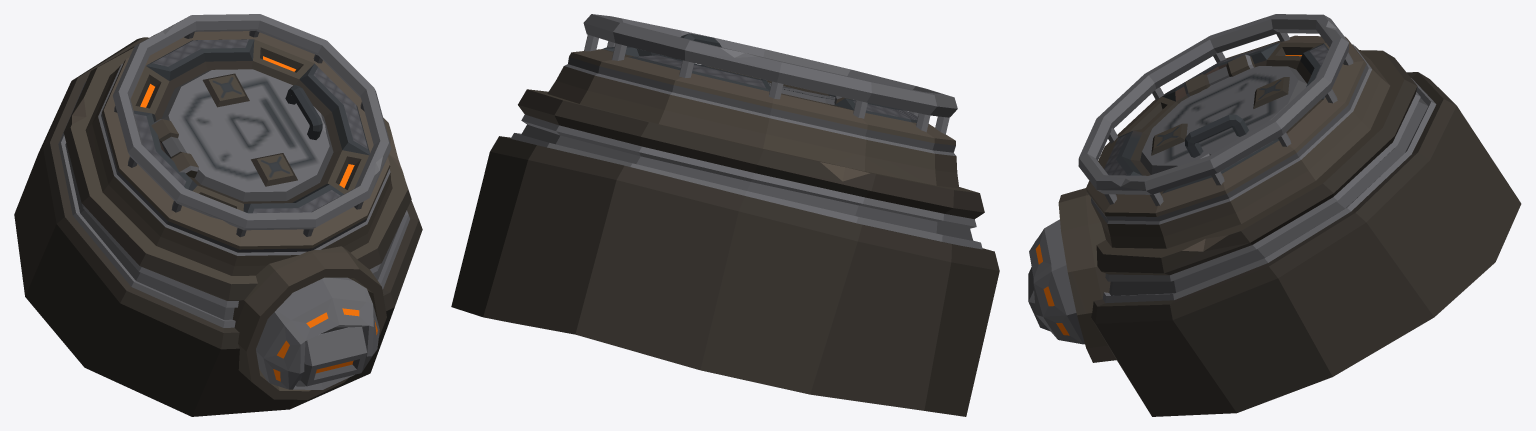
Rendered from SM_Mech_Head_01_Armor_Helmet_08.fbx.
3 views of the same model, side by side, from view 1: azimuth 30°, elevation 25°; view 2: azimuth 150°, elevation 25°; view 3: azimuth 270°, elevation 25° (orthographic). The views are drawn at different scales.
Parts seen in each view (by area): view 1: SM_Mech_Head_01_Armor_Helmet_08; view 2: SM_Mech_Head_01_Armor_Helmet_08; view 3: SM_Mech_Head_01_Armor_Helmet_08.
Boxes of the visible parts, x1,y1,x2,y2 form: SM_Mech_Head_01_Armor_Helmet_08: (14,14,422,416); SM_Mech_Head_01_Armor_Helmet_08: (451,14,999,416); SM_Mech_Head_01_Armor_Helmet_08: (1028,14,1521,416).
Bounding box in the file's own units: 92.61 × 83.59 × 109.
